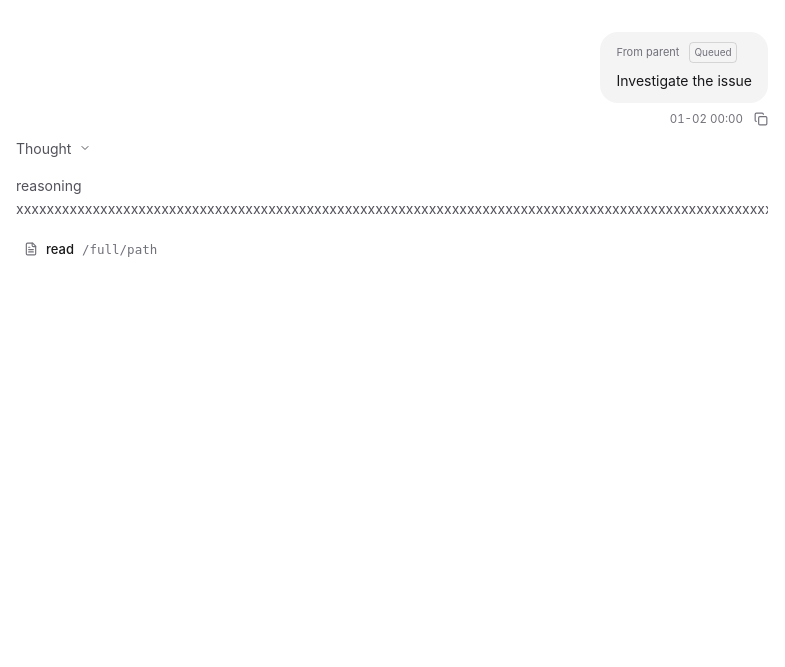
it: retains each logical child's tool expansion and updates the existing streaming message
Later steps or results of the test are not shown.
Click the button "read /full/path": [120, 249] box [16, 234, 768, 264]
Click the button "read /full/path": [120, 249] box [16, 234, 768, 264]
(page scrolled)
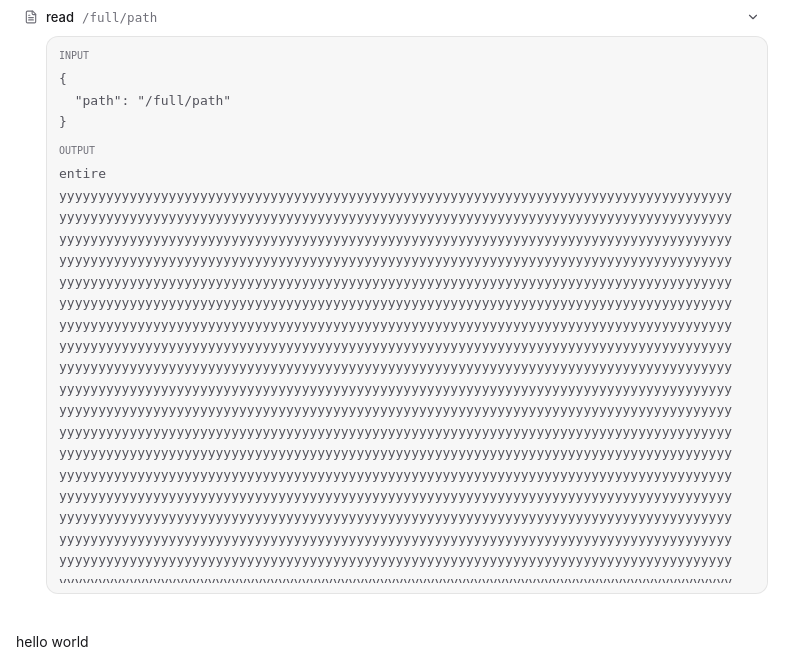
expect the button "read /full/path" is shown: met, box [16, 2, 768, 32]
expect the element with class "ohb-markdown" reads "hello world": met, box [16, 634, 89, 650]
